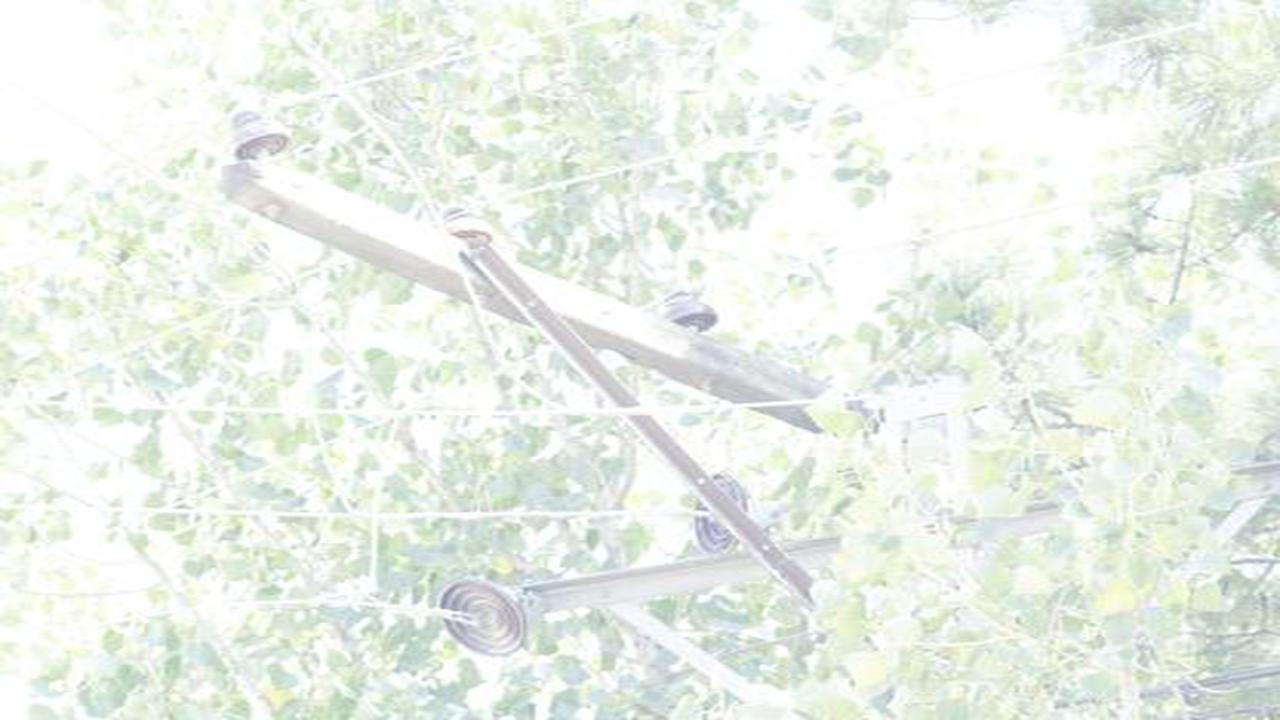insulator_disc: (436, 578, 529, 660), (691, 470, 754, 557)
insulator_pin: (227, 105, 295, 159), (442, 199, 497, 246), (663, 288, 718, 332)
